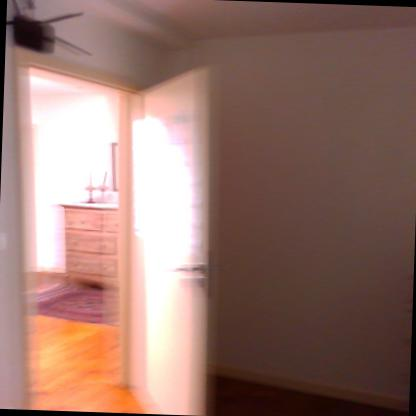semi: (0, 47, 229, 415)
